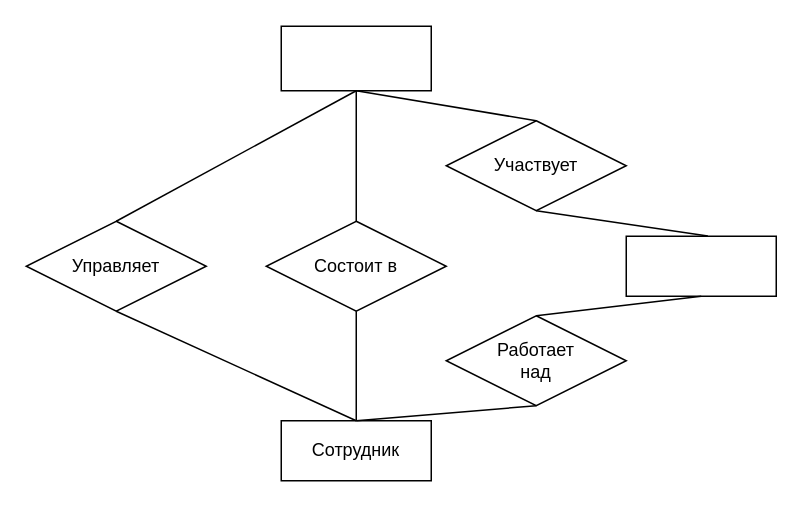
Image size: 803x507. Some labels were removed from this diagram. The shapes that lost their labels are listed below. From the top down, each one's centre as x and y in pixels, then its label:
At [355,58]: "Отдел".
At [700,265]: "Проект".
